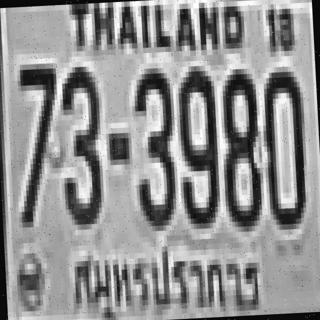N00: (260, 66, 307, 225)
N03: (130, 62, 177, 227), (56, 61, 102, 225)
N07: (11, 58, 61, 222), (17, 58, 61, 222)
N08: (217, 66, 261, 225)
N09: (174, 66, 218, 224)
P57: (62, 235, 264, 320)
